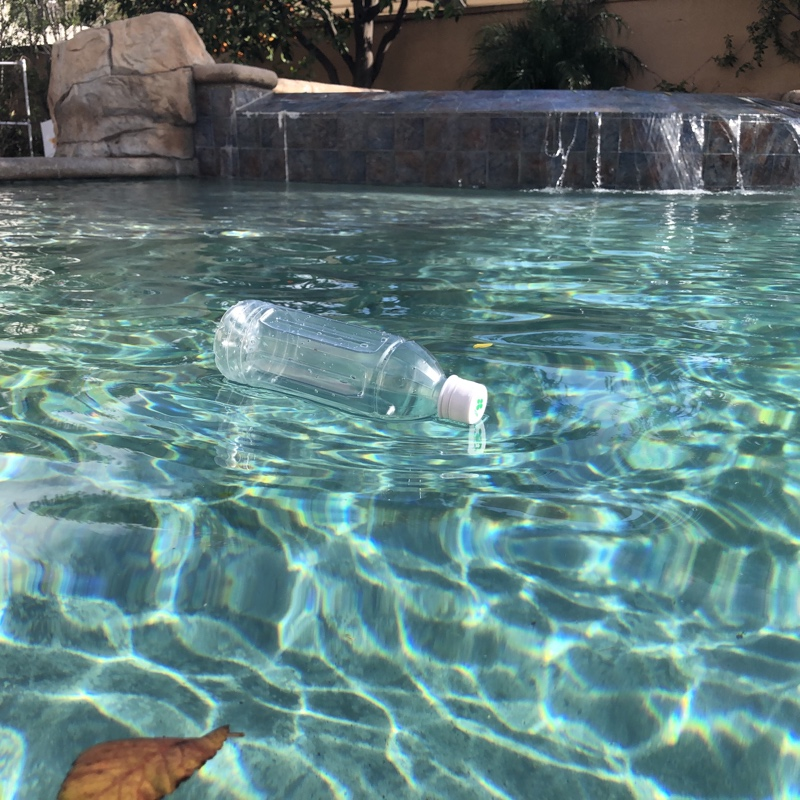Plastic Bottle: (208, 293, 496, 435)
